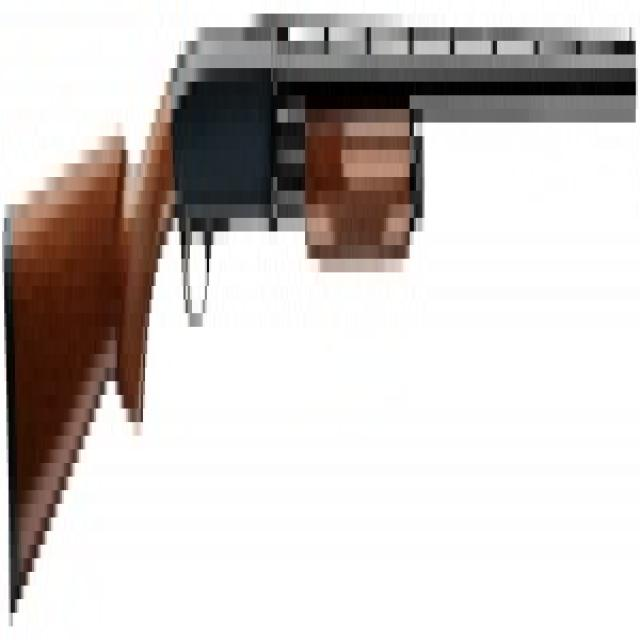rifle: (1, 1, 639, 640)
